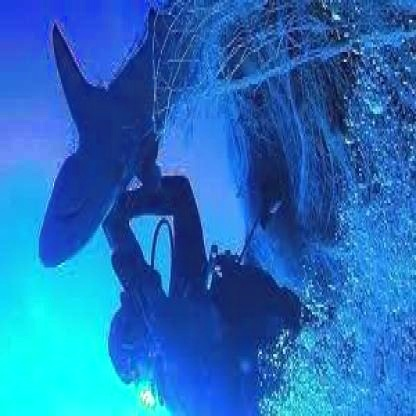net: (152, 3, 380, 132)
